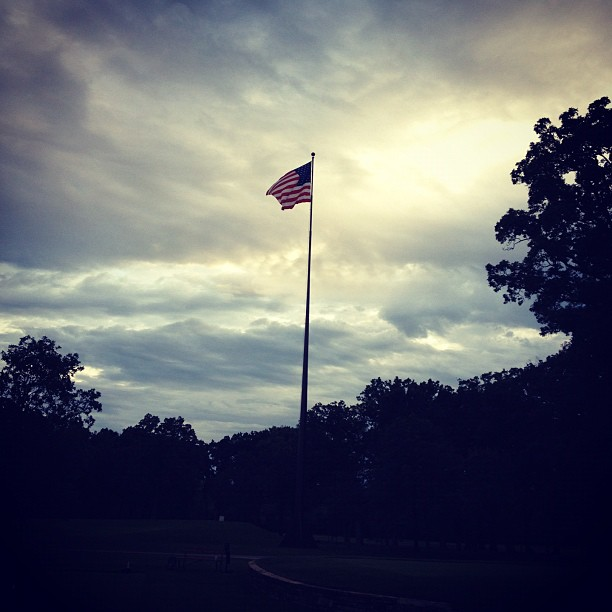flag: (244, 144, 323, 225)
sky: (1, 1, 558, 362)
tree: (491, 94, 612, 354), (1, 334, 113, 413)
